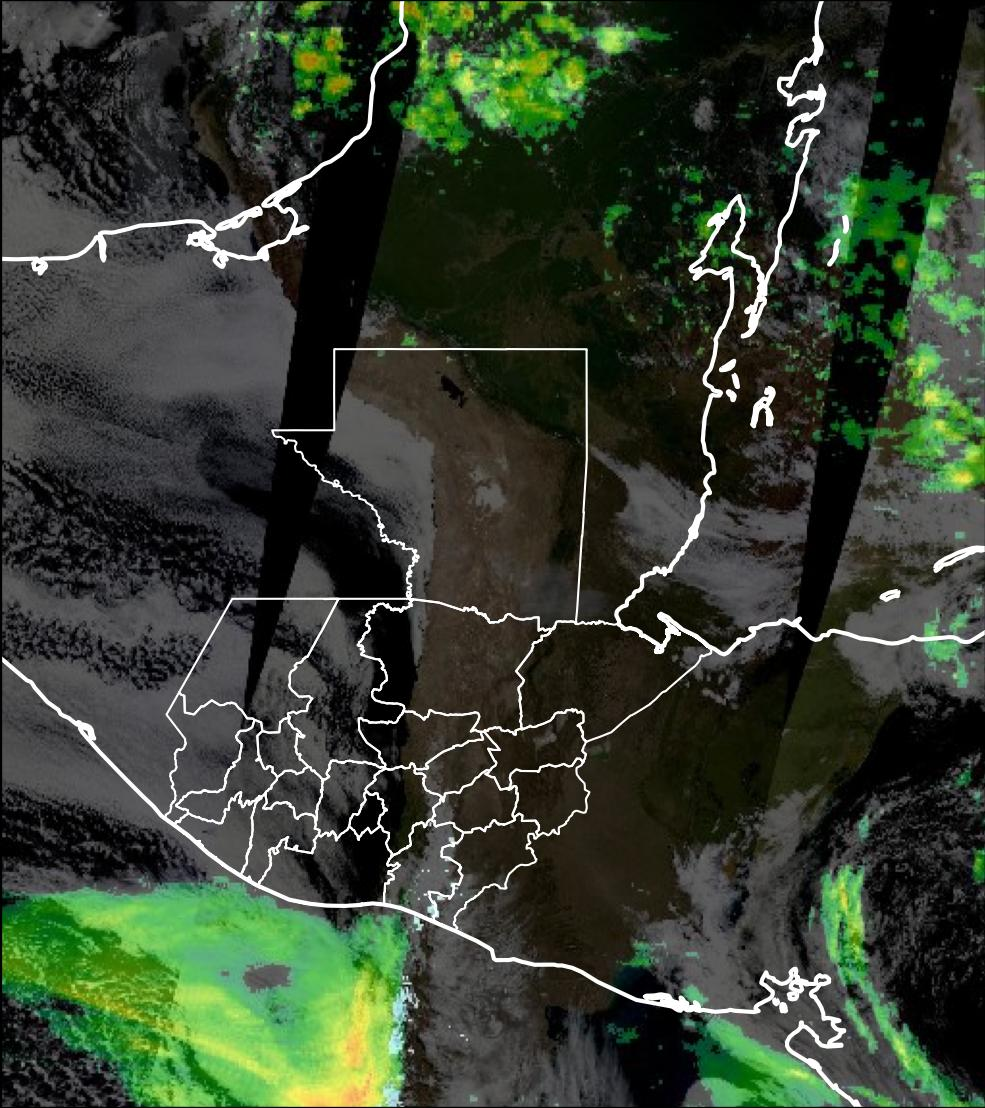precipitacion: (280, 1055, 383, 1108)
